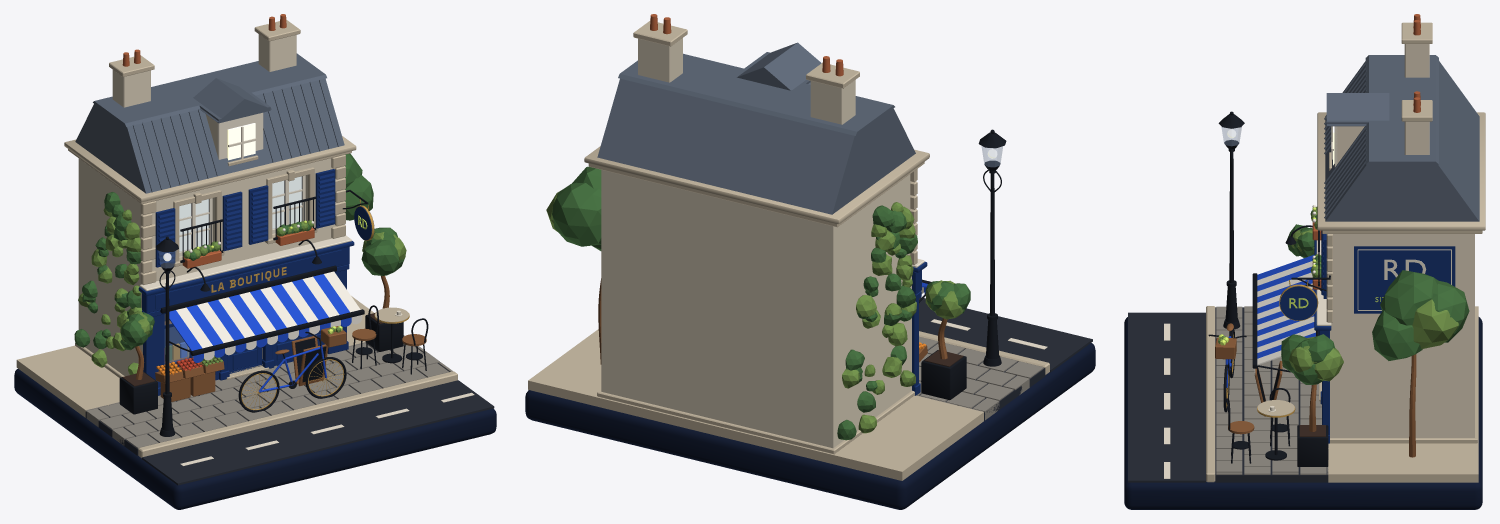
File: boutique.glb
3 renders of one model, left to right at view 1: azimuth 30°, elevation 25°; view 2: azimuth 150°, elevation 25°; view 3: azimuth 270°, elevation 25°, orthographic. The views are drawn at different scales.
Visible parts, largest first — view 1: Zinc, Pierre, Enduit, Bitume, Socle, Trottoir, Bleu_Facade, Noir_Laque, Feuillage, Store_Bleu, Store_Creme, Creme (+8 smaller); view 2: Enduit, Zinc, Pierre, Socle, Feuillage, Feuillage_Clair, Bitume, Trottoir, Noir_Laque, Bleu_Facade, Bois; view 3: Enduit, Zinc, Pierre, Bitume, Socle, Trottoir, Feuillage, Noir_Laque, Bleu_Facade, Feuillage_Clair, Store_Bleu, Store_Creme (+4 smaller).
Boxes of the visible parts, box(x1,y1,x2,y2) form: Zinc: box(75, 53, 344, 193); Pierre: box(16, 20, 457, 457); Enduit: box(78, 34, 335, 376); Bitume: box(85, 345, 494, 485); Socle: box(14, 369, 496, 509); Trottoir: box(86, 335, 452, 448); Bleu_Facade: box(138, 169, 354, 395); Noir_Laque: box(119, 190, 428, 436); Feuillage: box(74, 153, 405, 350); Store_Bleu: box(165, 274, 351, 392); Store_Creme: box(176, 221, 362, 360); Creme: box(140, 112, 474, 465); Enduit: box(601, 38, 911, 448); Zinc: box(597, 42, 915, 214); Pierre: box(528, 21, 1049, 480); Socle: box(525, 343, 1095, 509); Feuillage: box(552, 166, 970, 440); Feuillage_Clair: box(546, 191, 963, 433); Bitume: box(919, 297, 1092, 420); Trottoir: box(916, 336, 1043, 420); Noir_Laque: box(919, 129, 1006, 400); Bleu_Facade: box(912, 261, 927, 395); Bois: box(598, 278, 947, 364); Enduit: box(1330, 44, 1474, 437); Zinc: box(1324, 55, 1479, 221); Pierre: box(1206, 22, 1485, 482); Bitume: box(1128, 307, 1328, 482); Socle: box(1124, 317, 1482, 509); Trottoir: box(1216, 306, 1328, 474); Feuillage: box(1281, 209, 1469, 384); Noir_Laque: box(1208, 111, 1330, 466); Bleu_Facade: box(1314, 230, 1455, 443); Feuillage_Clair: box(1218, 207, 1458, 381); Store_Bleu: box(1225, 255, 1315, 387); Store_Creme: box(1254, 205, 1316, 374).
Bounding box in the file's own units: 5.2 × 5.25 × 4.64.
